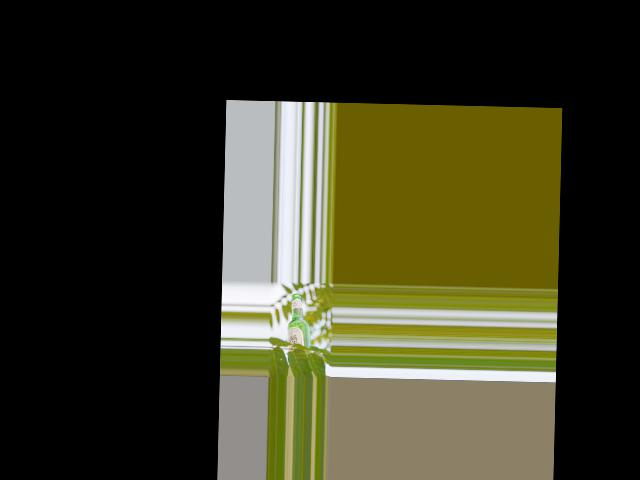beer: (286, 293, 311, 353)
